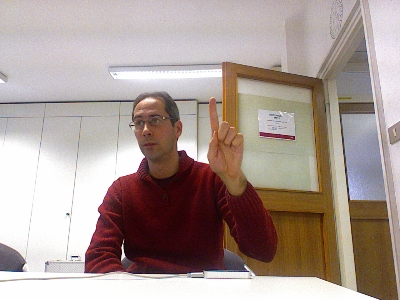食指: (204, 96, 245, 178)
